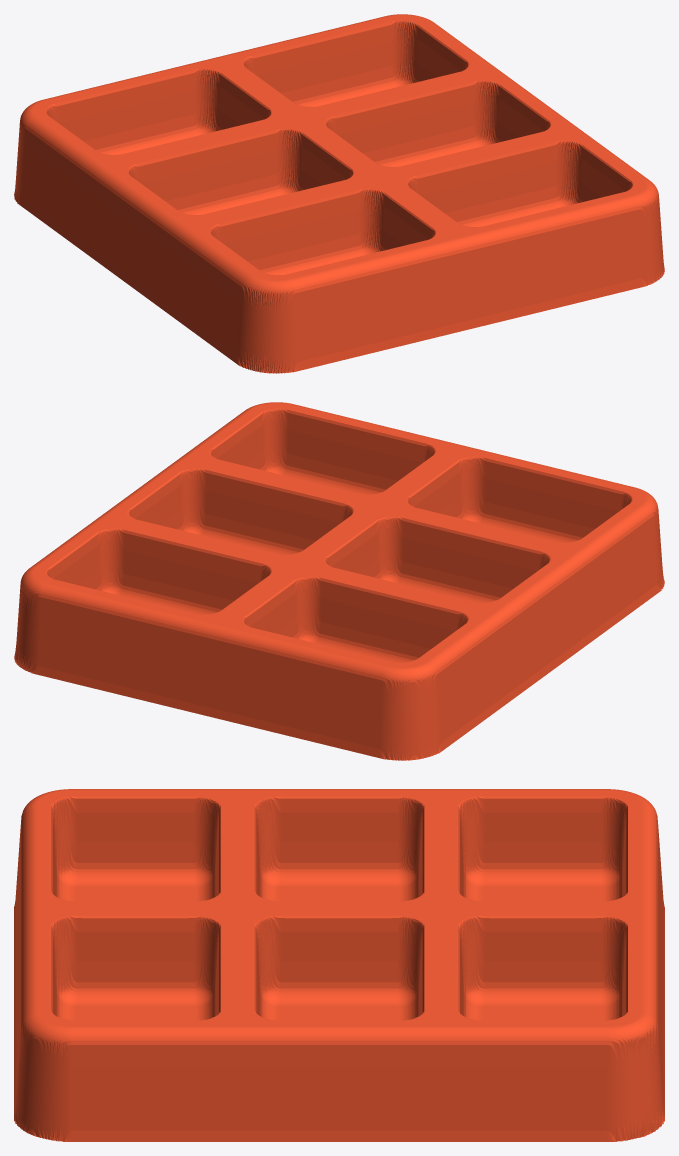
The model's file is mold.glb.
3 views of the same model, one above another, from view 1: azimuth 30°, elevation 25°; view 2: azimuth 150°, elevation 25°; view 3: azimuth 270°, elevation 25° (orthographic). The views are drawn at different scales.
Visible parts, largest first — view 1: geometry_0; view 2: geometry_0; view 3: geometry_0.
Boxes of the visible parts, left/top/right/bottom form: geometry_0: left=14, top=14, right=664, bottom=373; geometry_0: left=14, top=402, right=664, bottom=760; geometry_0: left=14, top=789, right=664, bottom=1141.
Bounding box in the file's own units: 0.0947 × 0.0182 × 0.1019.
